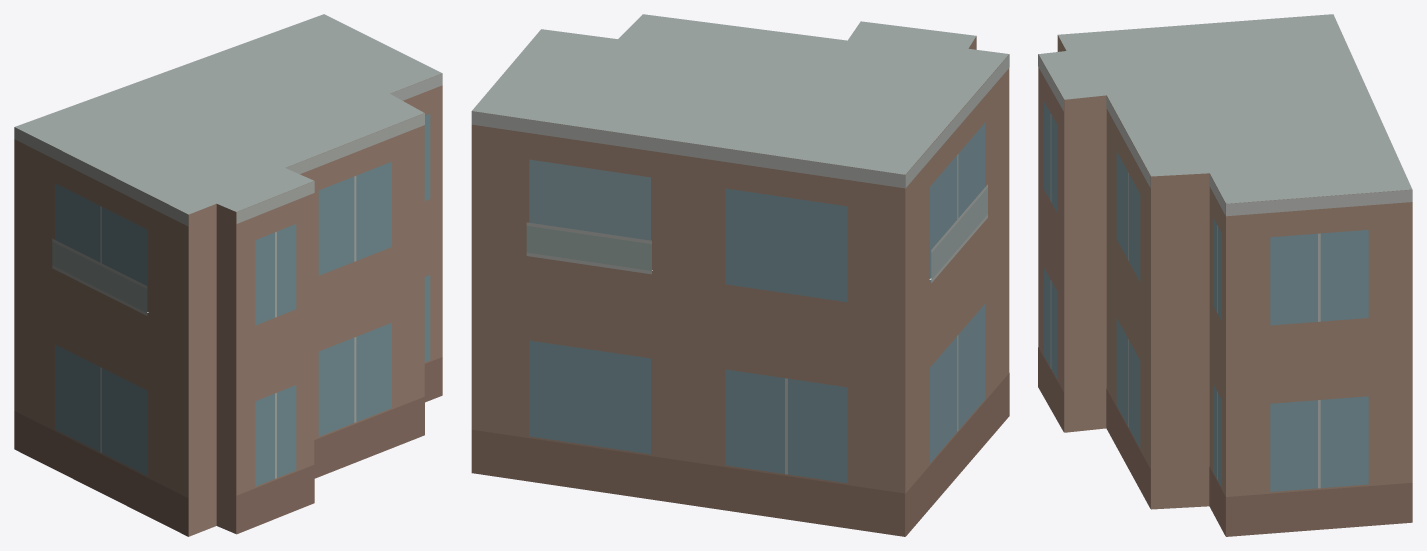
The model's file is survey-upis-33043508.glb.
3 views of the same model, side by side, from view 1: azimuth 30°, elevation 25°; view 2: azimuth 150°, elevation 25°; view 3: azimuth 270°, elevation 25° (orthographic). The views are drawn at different scales.
Parts seen in each view (by area): view 1: survey-upis-33043508.tmp; view 2: survey-upis-33043508.tmp; view 3: survey-upis-33043508.tmp.
Part boxes in pixels (bbox=[...]): survey-upis-33043508.tmp: bbox=[14, 14, 442, 536]; survey-upis-33043508.tmp: bbox=[471, 14, 1009, 536]; survey-upis-33043508.tmp: bbox=[1038, 14, 1412, 536].
Size of the model in its own units: 7.95 by 6.5 by 6.63.
